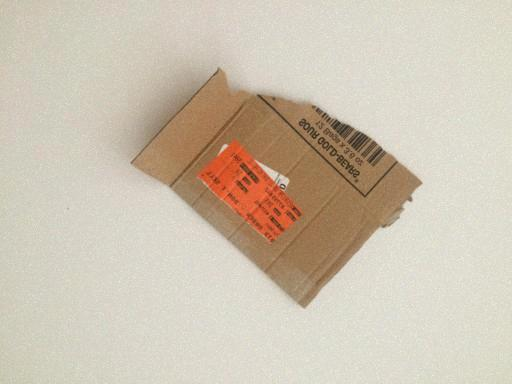cardboard: (132, 70, 424, 310)
